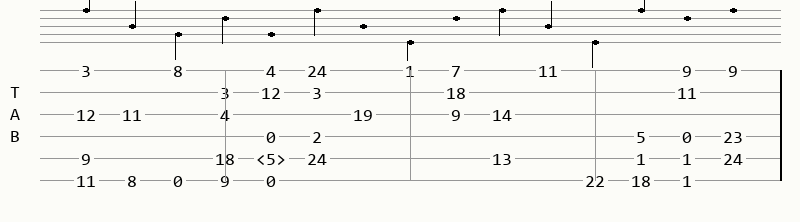0: (173, 173, 187, 188), (266, 173, 280, 188), (266, 129, 280, 144), (682, 129, 696, 144)
1: (405, 63, 419, 78), (636, 151, 650, 166), (682, 173, 696, 188), (682, 151, 696, 166)
11: (76, 173, 100, 188), (122, 107, 146, 122), (538, 63, 562, 78), (677, 85, 701, 100)
12: (76, 107, 100, 122), (261, 85, 285, 100)
13: (492, 151, 516, 166)
14: (492, 107, 516, 122)
18: (215, 151, 239, 166), (446, 85, 470, 100), (631, 173, 655, 188)
19: (353, 107, 377, 122)
2: (312, 129, 326, 144)
22: (585, 173, 609, 188)
23: (723, 129, 747, 144)
24: (307, 63, 331, 78), (307, 151, 331, 166), (723, 151, 747, 166)
3: (81, 63, 95, 78), (220, 85, 234, 100), (312, 85, 326, 100)
4: (220, 107, 234, 122), (266, 63, 280, 78)
5: (636, 129, 650, 144)
7: (451, 63, 465, 78)
8: (127, 173, 141, 188), (173, 63, 187, 78)
9: (81, 151, 95, 166), (220, 173, 234, 188), (451, 107, 465, 122), (682, 63, 696, 78), (728, 63, 742, 78)
harmonic: (256, 151, 290, 166)
